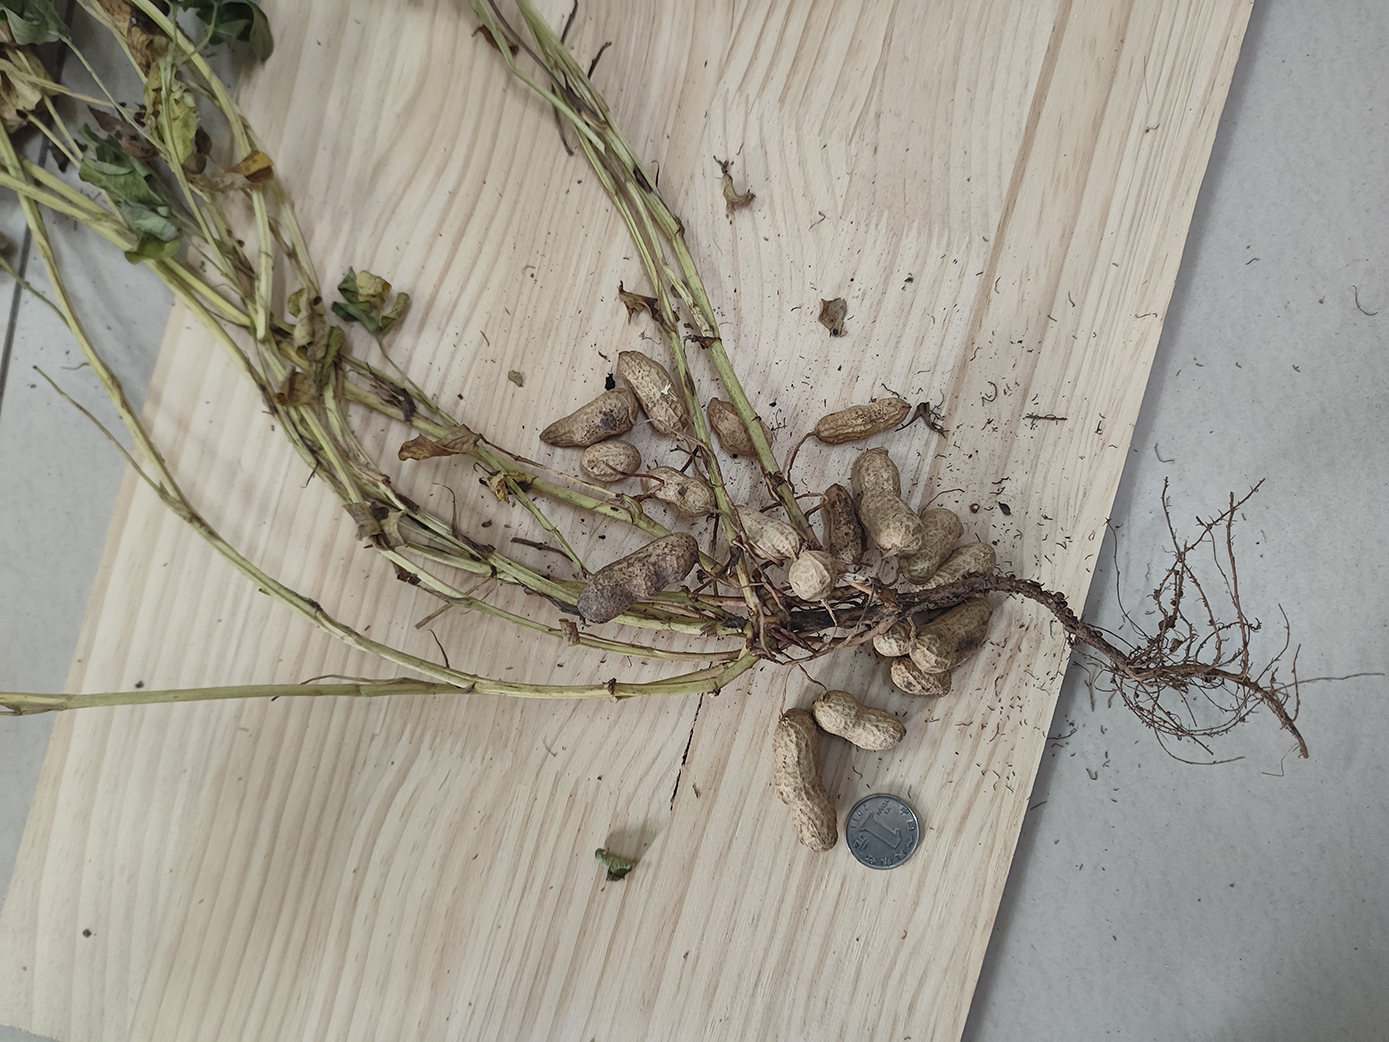h: (774, 710, 838, 853), (850, 445, 924, 558), (541, 389, 641, 445), (618, 350, 686, 435), (814, 690, 908, 749), (911, 601, 989, 671), (908, 543, 997, 602), (898, 509, 966, 581), (815, 398, 914, 443), (708, 396, 775, 458), (729, 505, 800, 561), (643, 465, 715, 519), (822, 484, 866, 566), (581, 440, 641, 483), (789, 551, 836, 600), (893, 657, 950, 696), (873, 621, 917, 658)
l: (577, 532, 698, 624)
